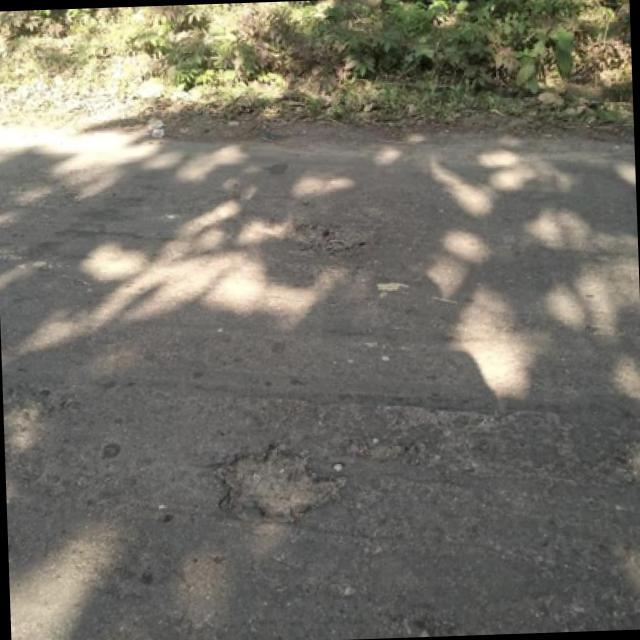Pothole: (216, 443, 346, 523), (292, 224, 342, 248)
